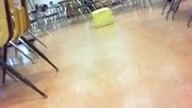cube: (92, 7, 113, 28)
